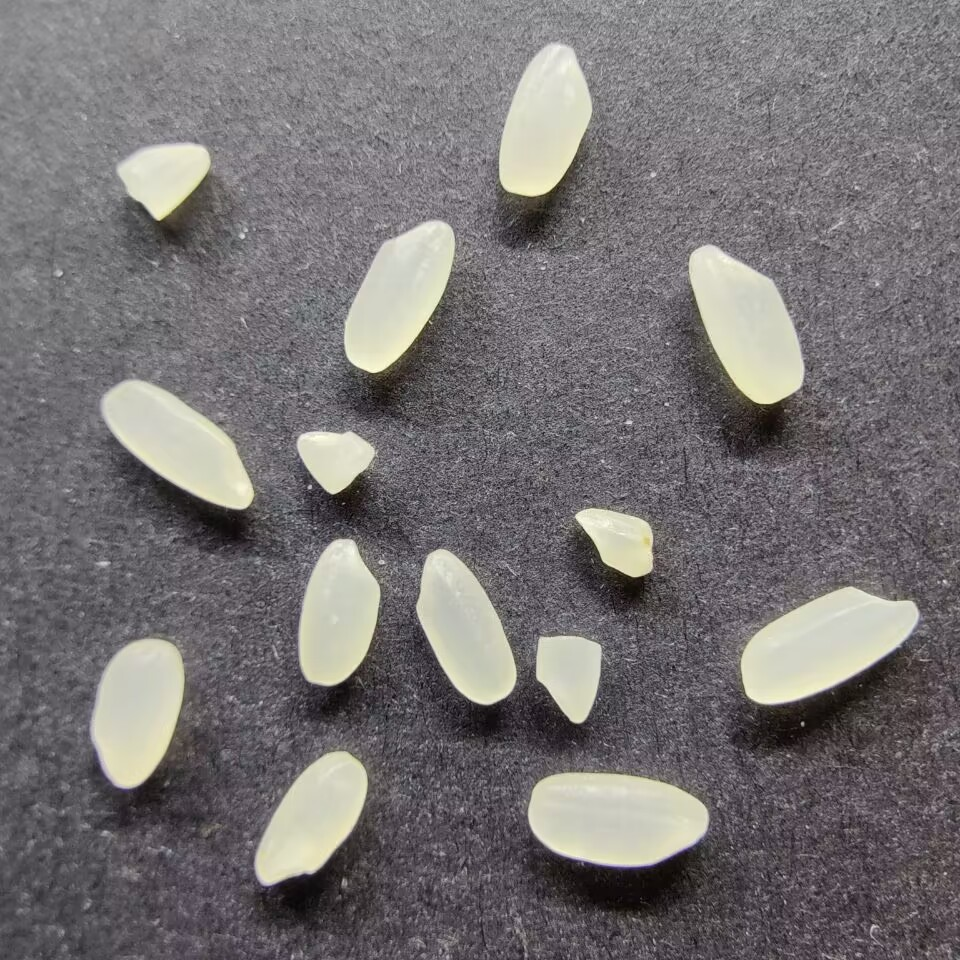broken: (115, 142, 212, 222), (533, 633, 602, 728), (573, 505, 657, 580), (293, 429, 377, 495)
rice: (741, 582, 921, 705), (98, 378, 254, 511), (687, 243, 805, 406), (341, 218, 457, 372), (527, 772, 709, 869), (413, 548, 519, 707), (254, 749, 368, 889), (496, 40, 593, 197), (86, 638, 185, 789), (296, 536, 382, 688)
